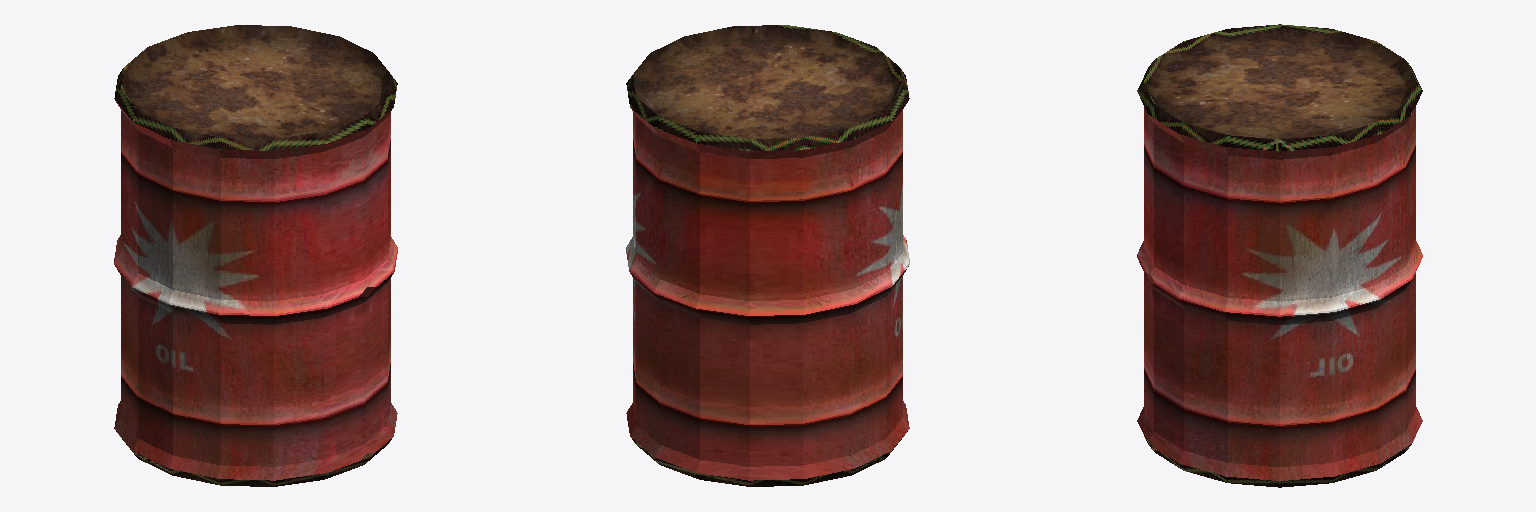
3 views of the same model, side by side, from view 1: azimuth 30°, elevation 25°; view 2: azimuth 150°, elevation 25°; view 3: azimuth 270°, elevation 25° (orthographic).
Parts seen in each view (by area): view 1: cylinder1; view 2: cylinder1; view 3: cylinder1.
Boxes of the visible parts, box(x1,y1,x2,y2) form: cylinder1: box(114, 25, 397, 486); cylinder1: box(626, 25, 909, 486); cylinder1: box(1137, 24, 1422, 487).
Bounding box in the file's own units: 1.26 × 1.69 × 1.26.
1 materials, 1 textured.